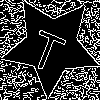T: (26, 21, 70, 75)
